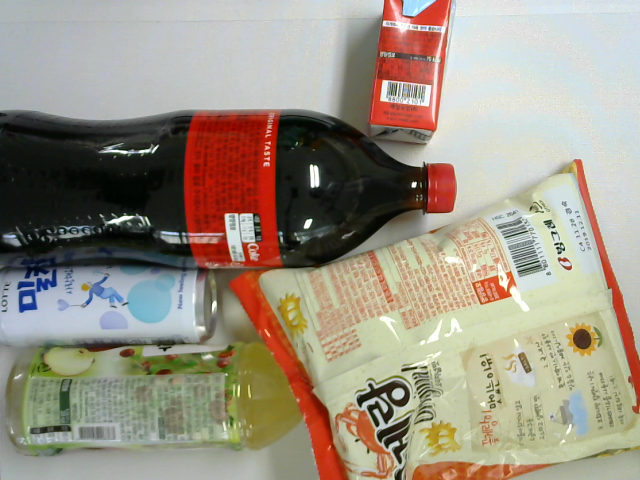Coca_Cola_1.5L: (1, 108, 456, 271)
Crabrang: (229, 160, 639, 480)
Milkies_250ml: (1, 268, 220, 347)
Morning_Apple_500ml: (4, 343, 305, 450)
Picnic_Apple: (368, 1, 455, 145)
